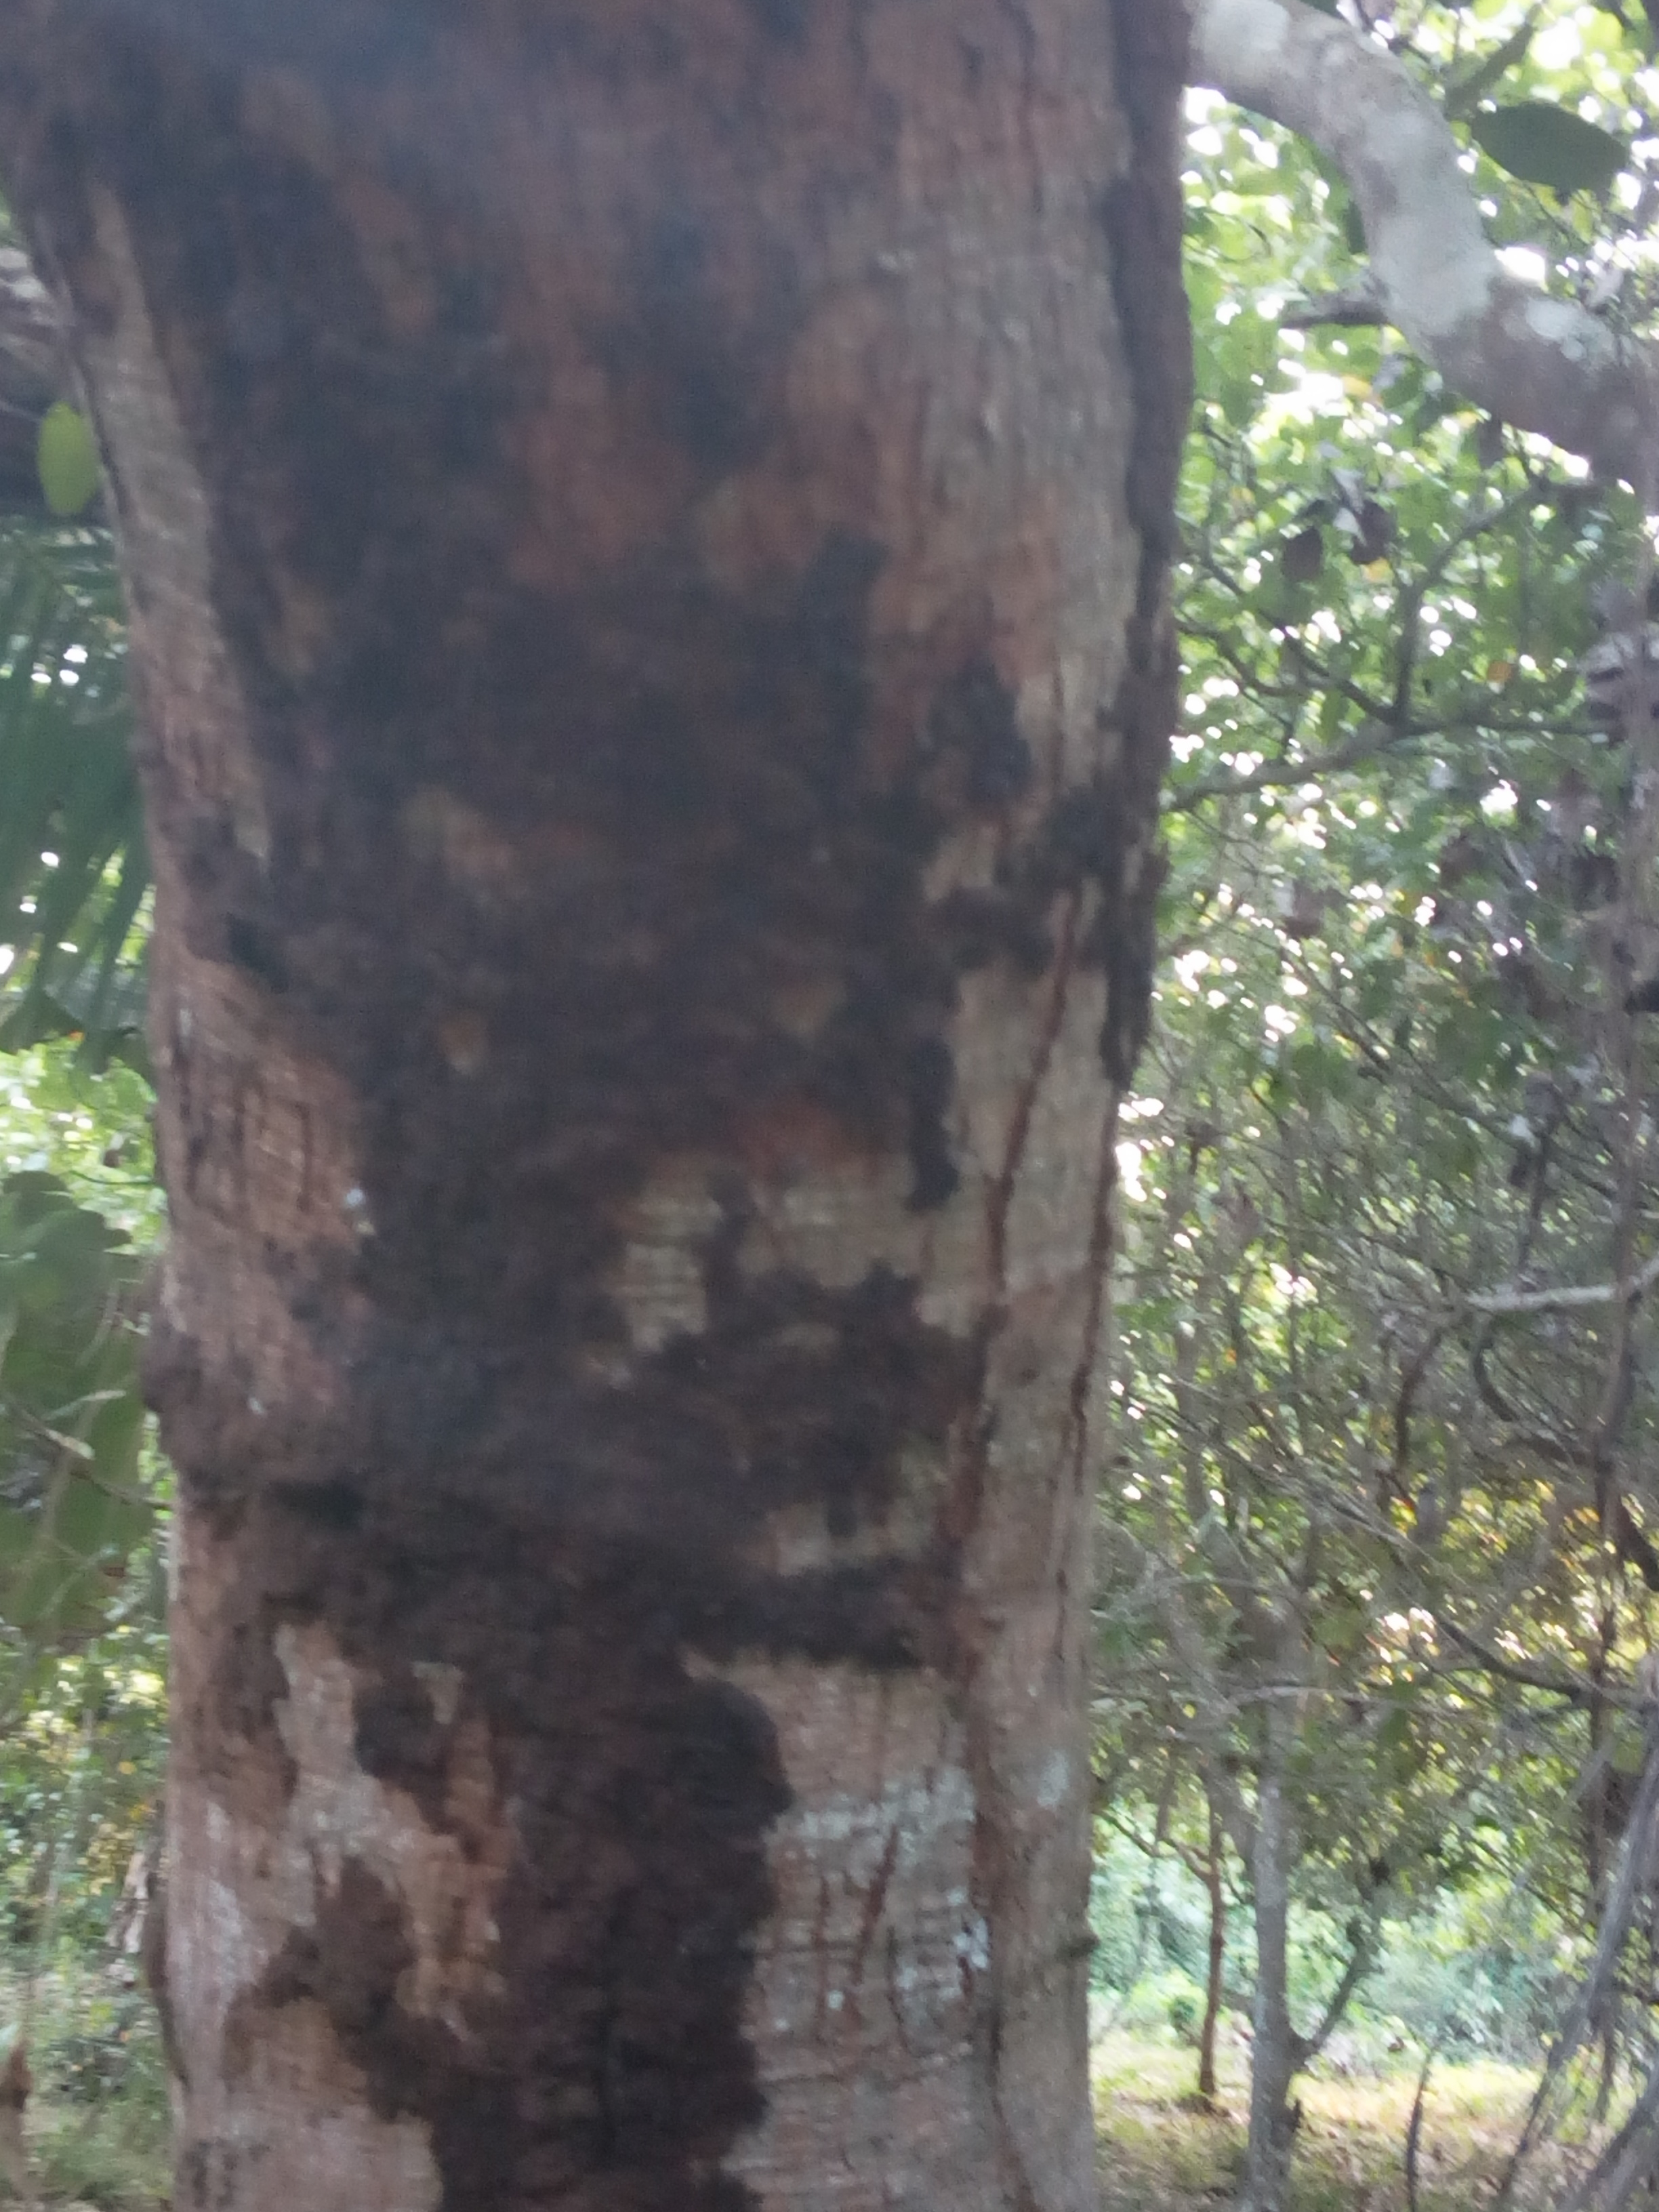Termites: (183, 113, 941, 2212), (1101, 5, 1178, 1103)
